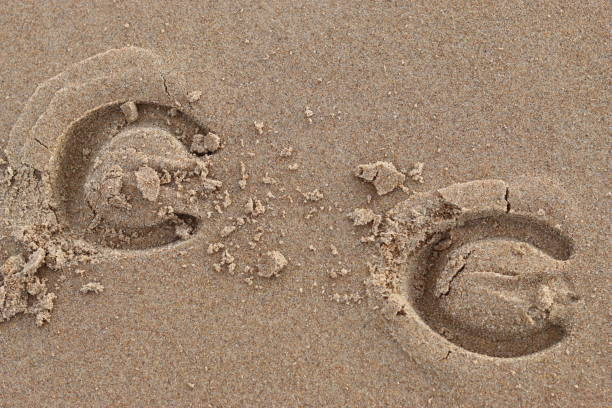animal_footprint: (0, 47, 222, 323), (7, 47, 221, 249), (367, 179, 580, 370)
